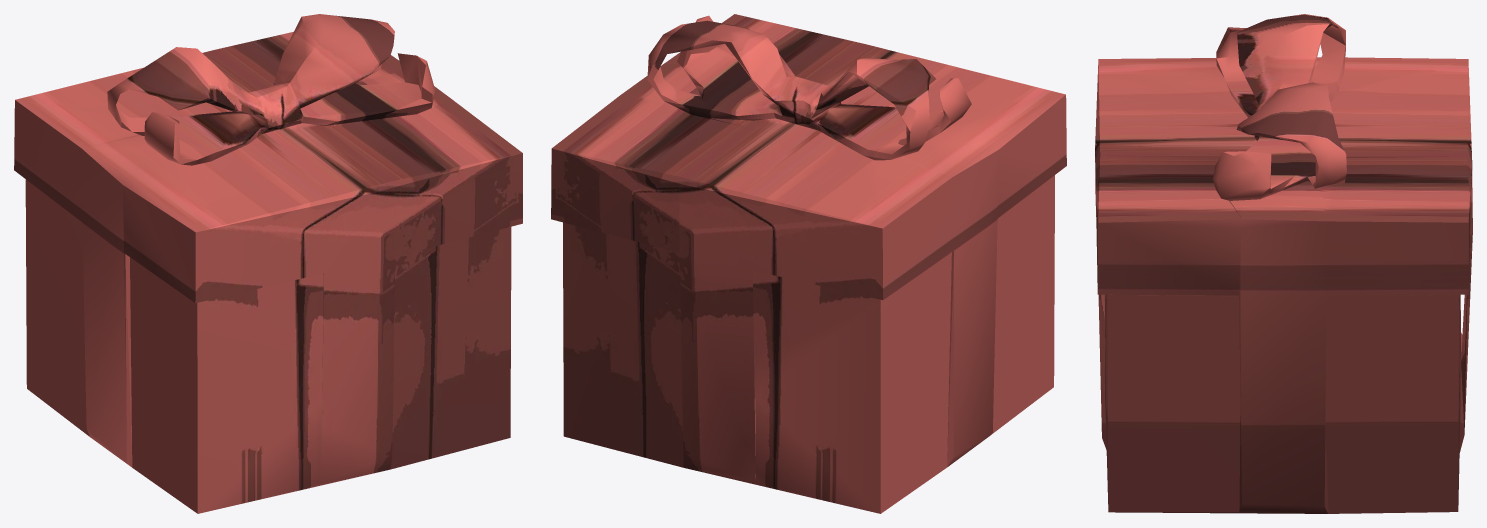
3 renders of one model, left to right at view 1: azimuth 30°, elevation 25°; view 2: azimuth 150°, elevation 25°; view 3: azimuth 270°, elevation 25°, orthographic. The views are drawn at different scales.
Parts seen in each view (by area): view 1: Decor_gift_box_display_c_coral; view 2: Decor_gift_box_display_c_coral; view 3: Decor_gift_box_display_c_coral.
Boxes of the visible parts, x1,y1,x2,y2 form: Decor_gift_box_display_c_coral: (14,14,522,513); Decor_gift_box_display_c_coral: (551,14,1066,513); Decor_gift_box_display_c_coral: (1095,14,1472,513).
Size of the model in its own units: 1.12 by 1.2 by 1.08.
Materials: 1 (1 with a texture image).
